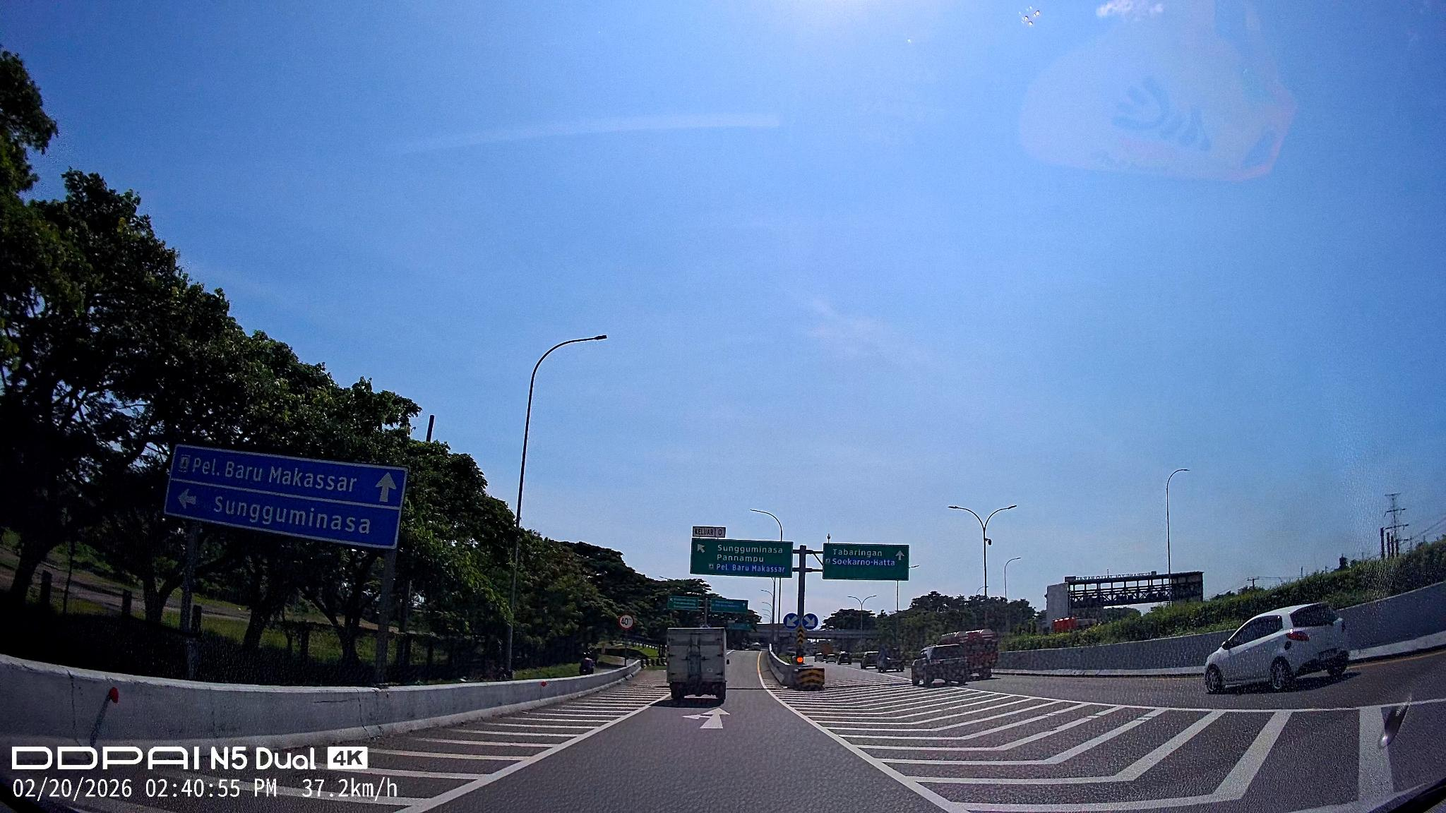rambu_teks: (690, 537, 793, 578), (824, 544, 909, 581)
